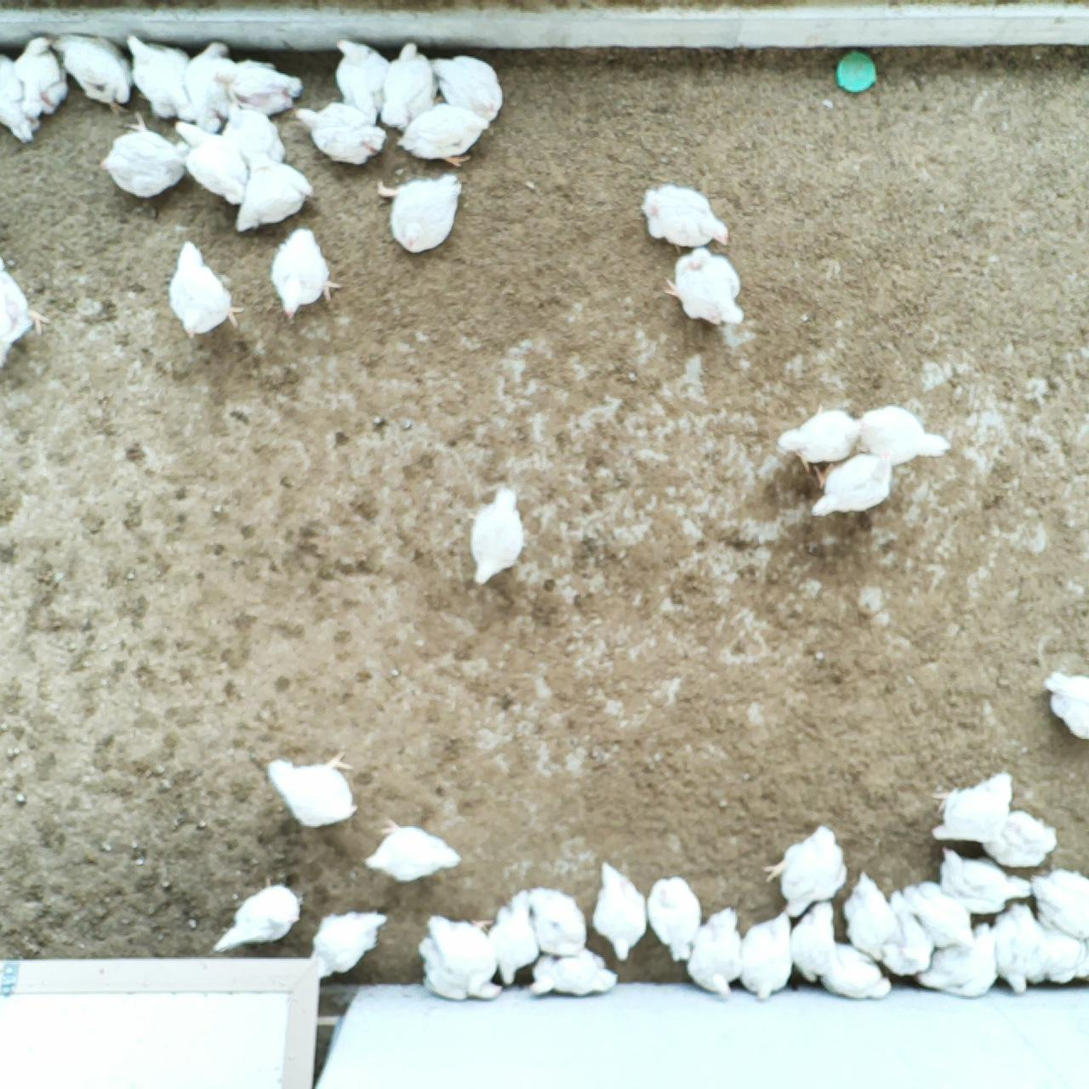chicken: (762, 819, 851, 923), (95, 109, 191, 198), (165, 234, 245, 340), (210, 873, 310, 955), (266, 747, 362, 831), (415, 912, 506, 1000), (267, 223, 344, 324), (374, 171, 465, 255), (227, 149, 316, 233), (50, 30, 135, 116), (122, 28, 195, 127), (931, 846, 1034, 915), (929, 765, 1016, 845), (667, 244, 747, 330), (912, 919, 998, 999), (809, 445, 903, 518), (363, 816, 465, 883), (585, 858, 650, 963), (636, 182, 733, 252), (397, 101, 493, 171), (462, 482, 527, 585), (898, 876, 983, 954), (167, 120, 247, 201), (855, 401, 953, 467), (304, 908, 396, 978), (777, 400, 867, 471), (291, 98, 386, 165), (376, 40, 445, 132), (425, 48, 506, 125), (180, 35, 243, 133), (986, 900, 1049, 998), (735, 909, 801, 1001), (0, 254, 53, 368), (684, 904, 746, 1000), (641, 871, 705, 963), (212, 56, 305, 118), (876, 887, 938, 980), (332, 35, 397, 122), (489, 884, 543, 988), (1026, 859, 1089, 946), (12, 34, 72, 122), (846, 868, 901, 964), (980, 806, 1061, 871), (521, 884, 592, 958), (812, 939, 895, 1001), (527, 944, 620, 999), (786, 896, 840, 986), (218, 101, 290, 164), (0, 48, 42, 145), (1030, 919, 1089, 986), (1040, 666, 1089, 744)
